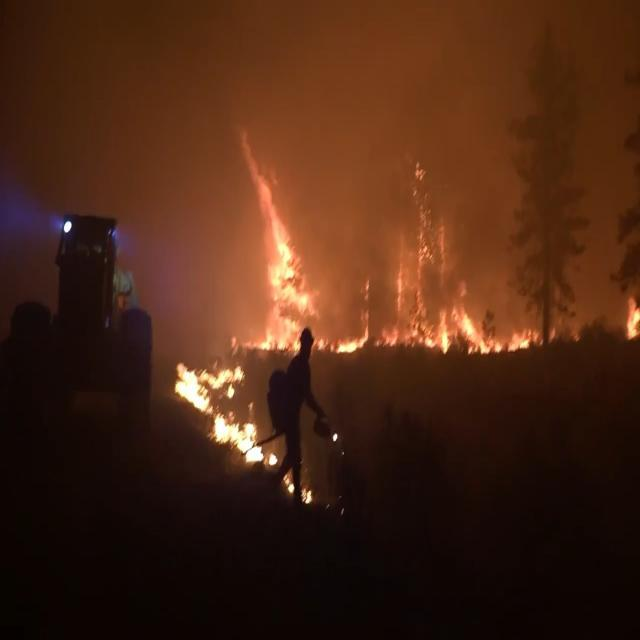Fire: (169, 117, 640, 509)
